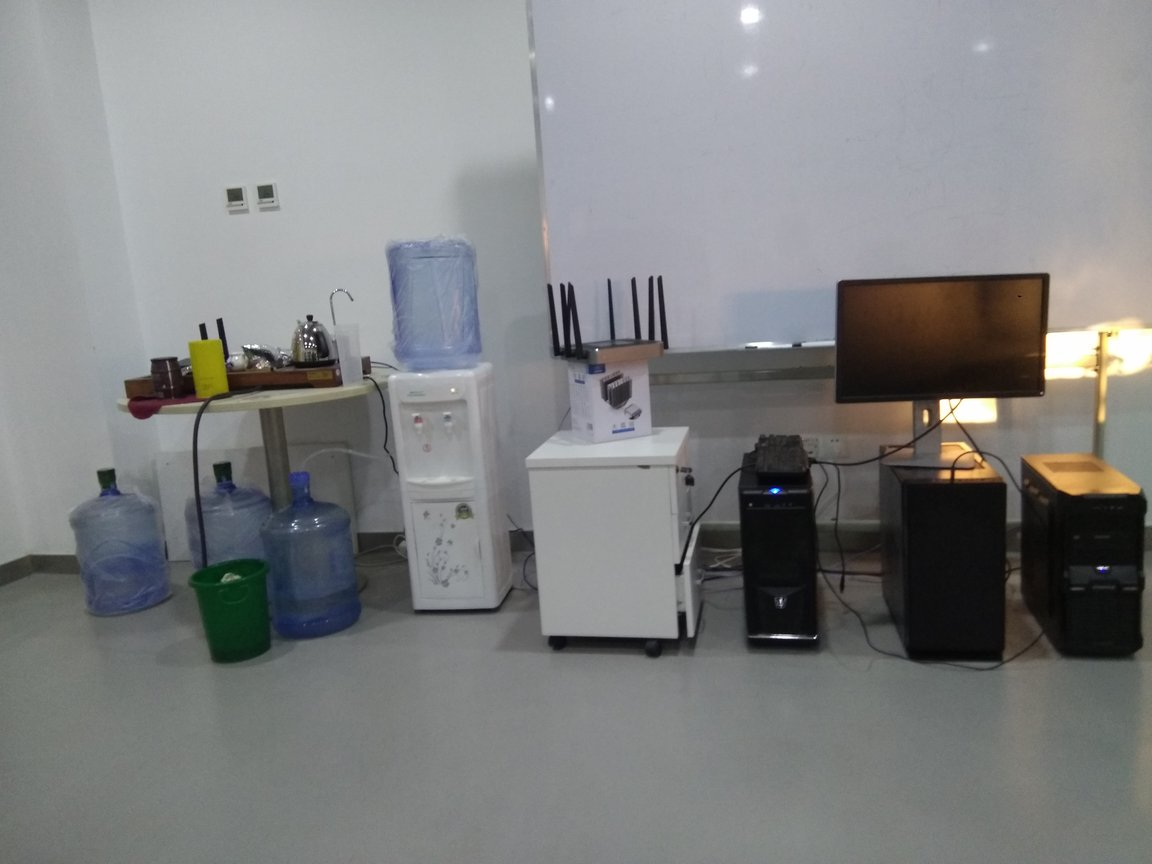computer: (877, 435, 1019, 675), (1012, 446, 1150, 668), (729, 431, 830, 653)
drawer chest: (533, 425, 699, 665)
monitor: (831, 272, 1062, 471)
scuttlebutt: (61, 471, 180, 627), (258, 471, 360, 638), (183, 447, 275, 613), (382, 233, 486, 371)
water dispenser: (389, 354, 514, 611)
